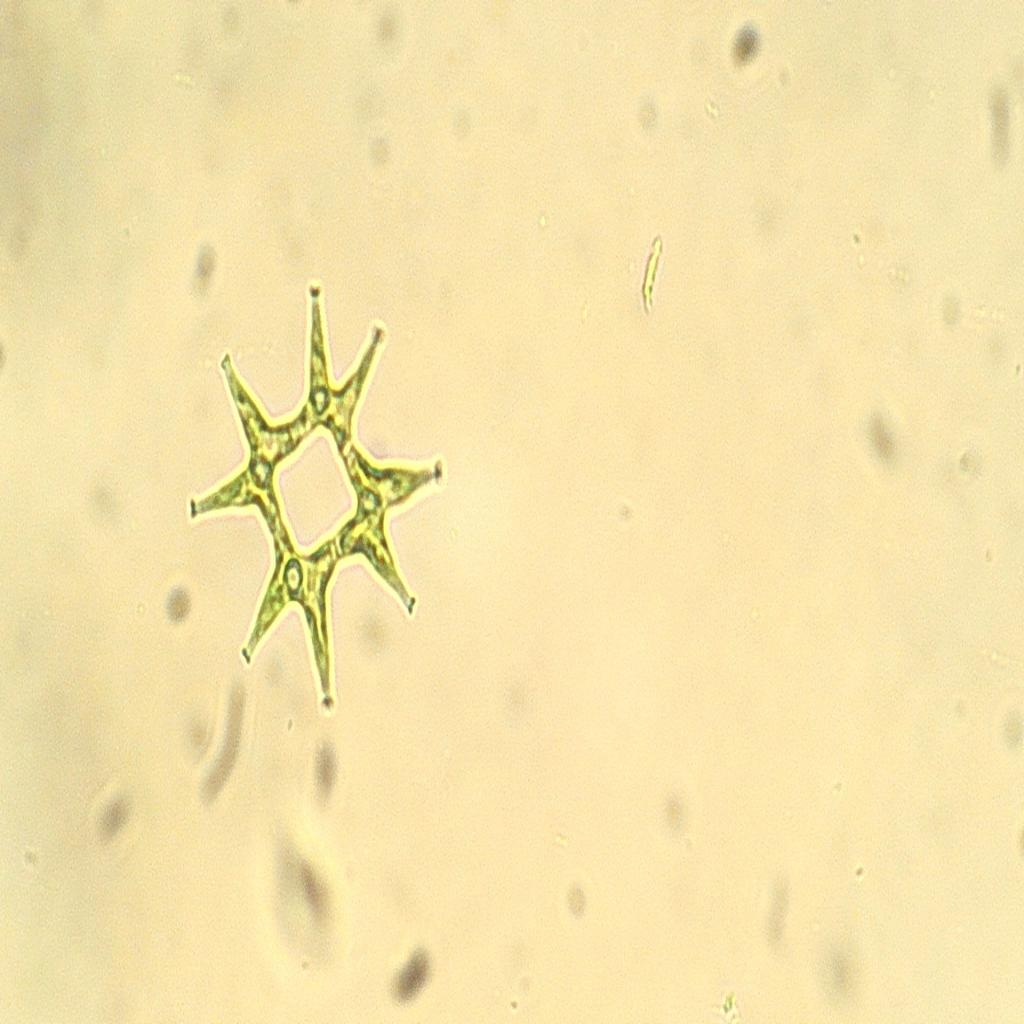Pediastrum_CO: (178, 268, 456, 724)
